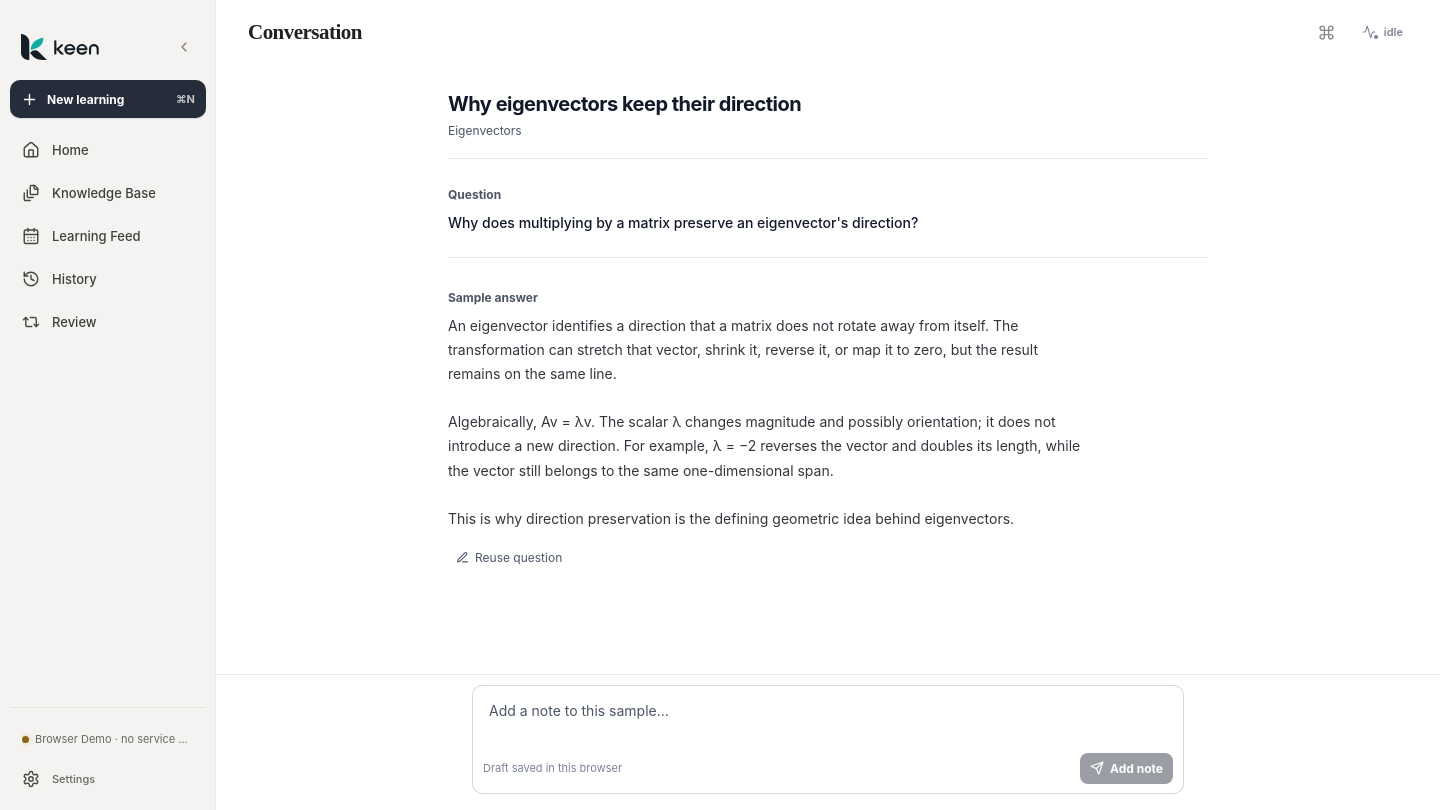
Test: Conversation local RAG integration › keeps Browser Demo explicit and makes no Tauri or network request
Check: the text "Sample answer" is shown, box [448,290,538,305]
Check: the text "Browser Demo · no service calls" is shown once, box [35,732,194,746]
Type "A local demo note" into the text box named "Reply". click: [828, 721]
box: [483,695,1173,748]
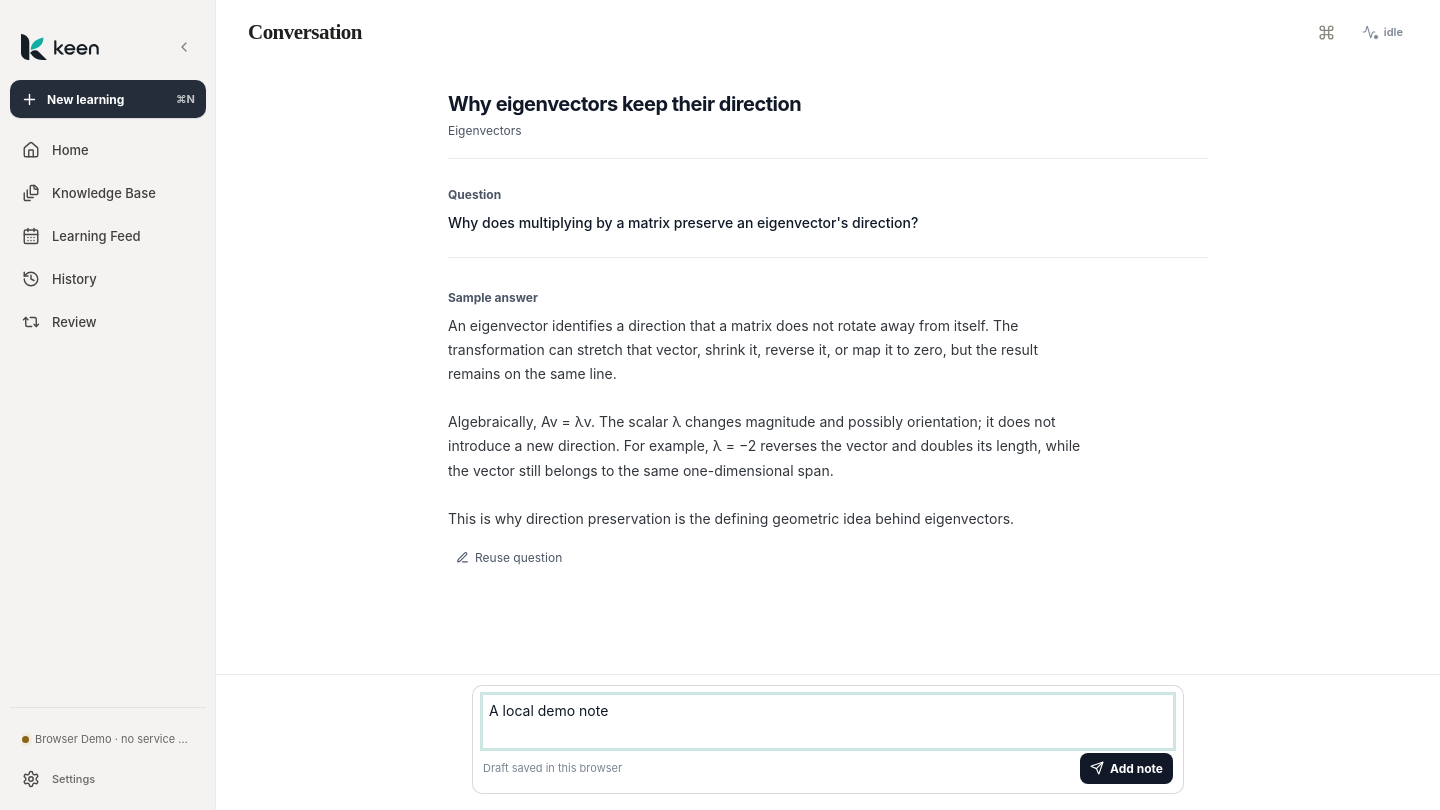
Press Tab
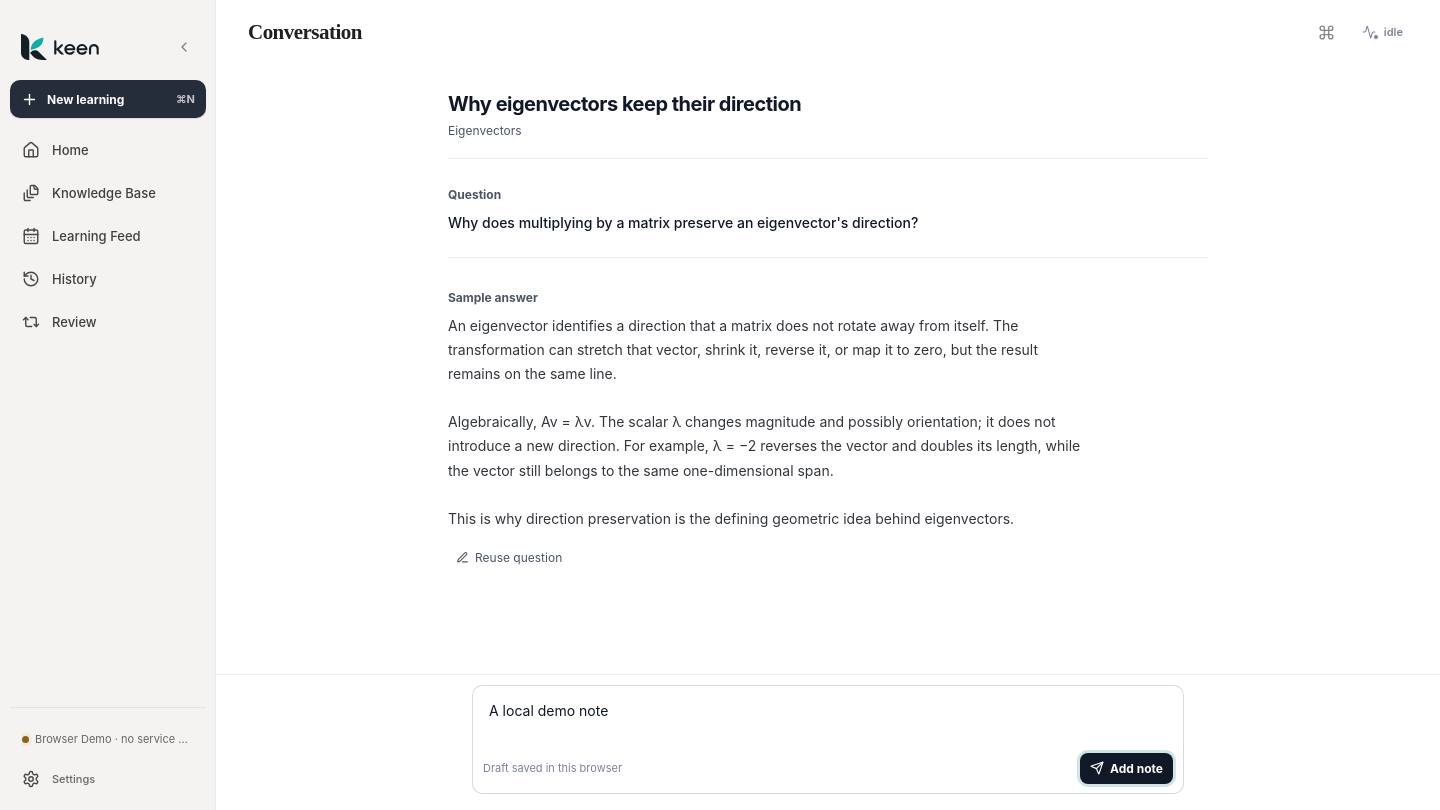
Click the button "Add note". click: [1127, 768]
box: [1080,752,1173,784]
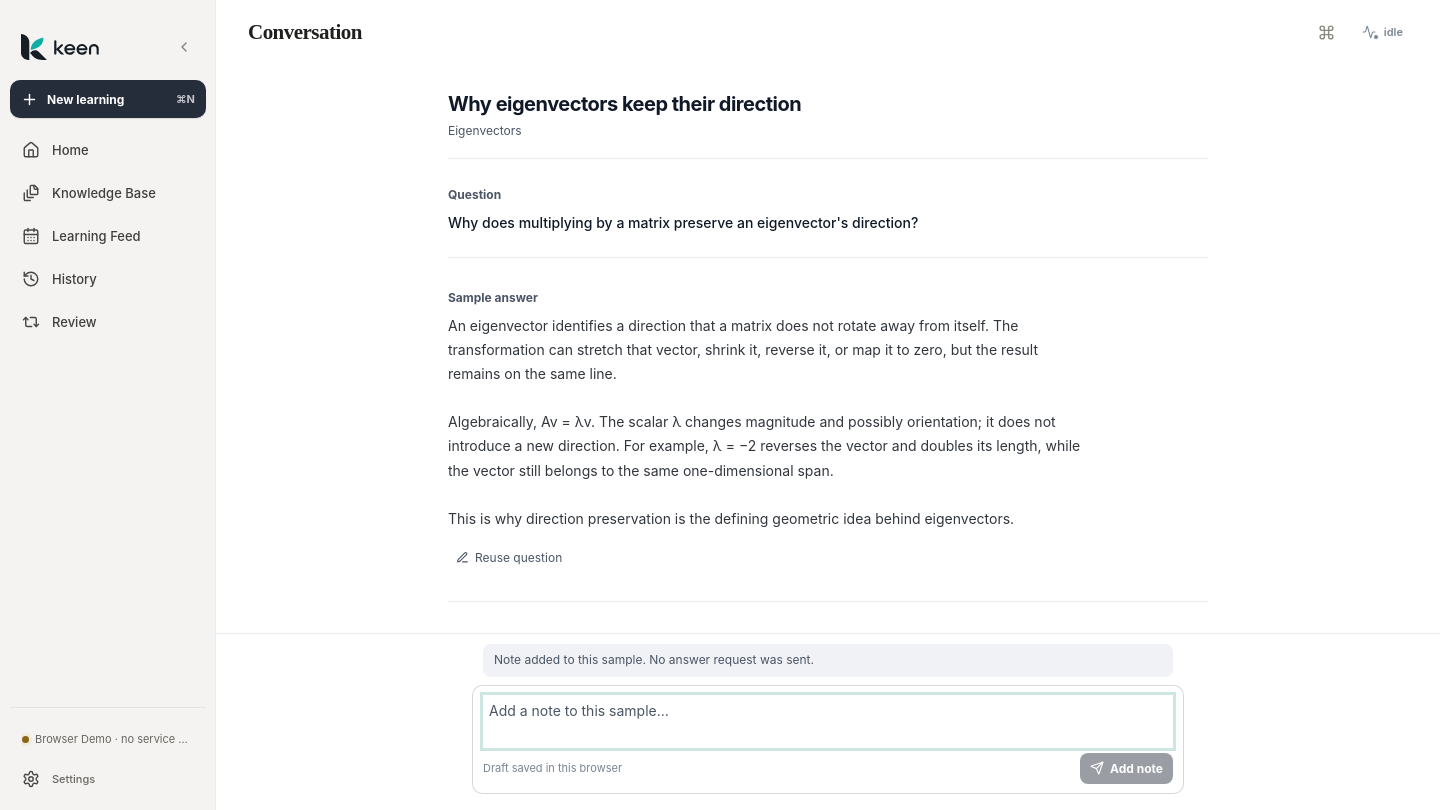
Check: the message shows "No answer request was sent", box [494,652,814,667]
